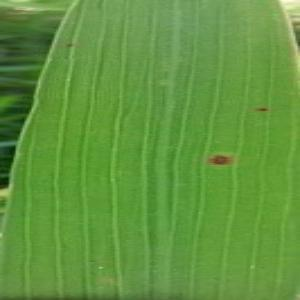Brown_Spot: (204, 148, 236, 171), (251, 103, 274, 114), (63, 39, 78, 51)
